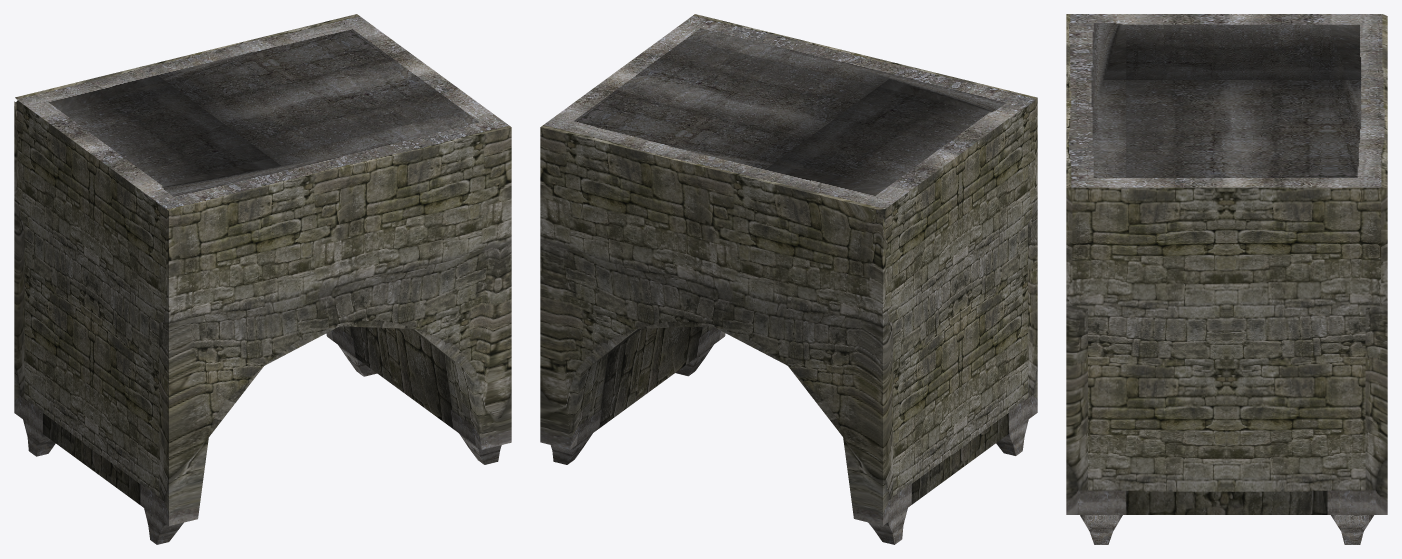
Rendered from torbogen_LOD.fbx.
3 views of the same model, side by side, from view 1: azimuth 30°, elevation 25°; view 2: azimuth 150°, elevation 25°; view 3: azimuth 270°, elevation 25° (orthographic). The views are drawn at different scales.
Parts seen in each view (by area): view 1: torbogen_LOD; view 2: torbogen_LOD; view 3: torbogen_LOD.
Part boxes in pixels (<box>): torbogen_LOD: <box>14,14,511,544</box>; torbogen_LOD: <box>540,14,1037,544</box>; torbogen_LOD: <box>1066,14,1387,544</box>.
Bounding box in the file's own units: 817 × 784 × 639.
